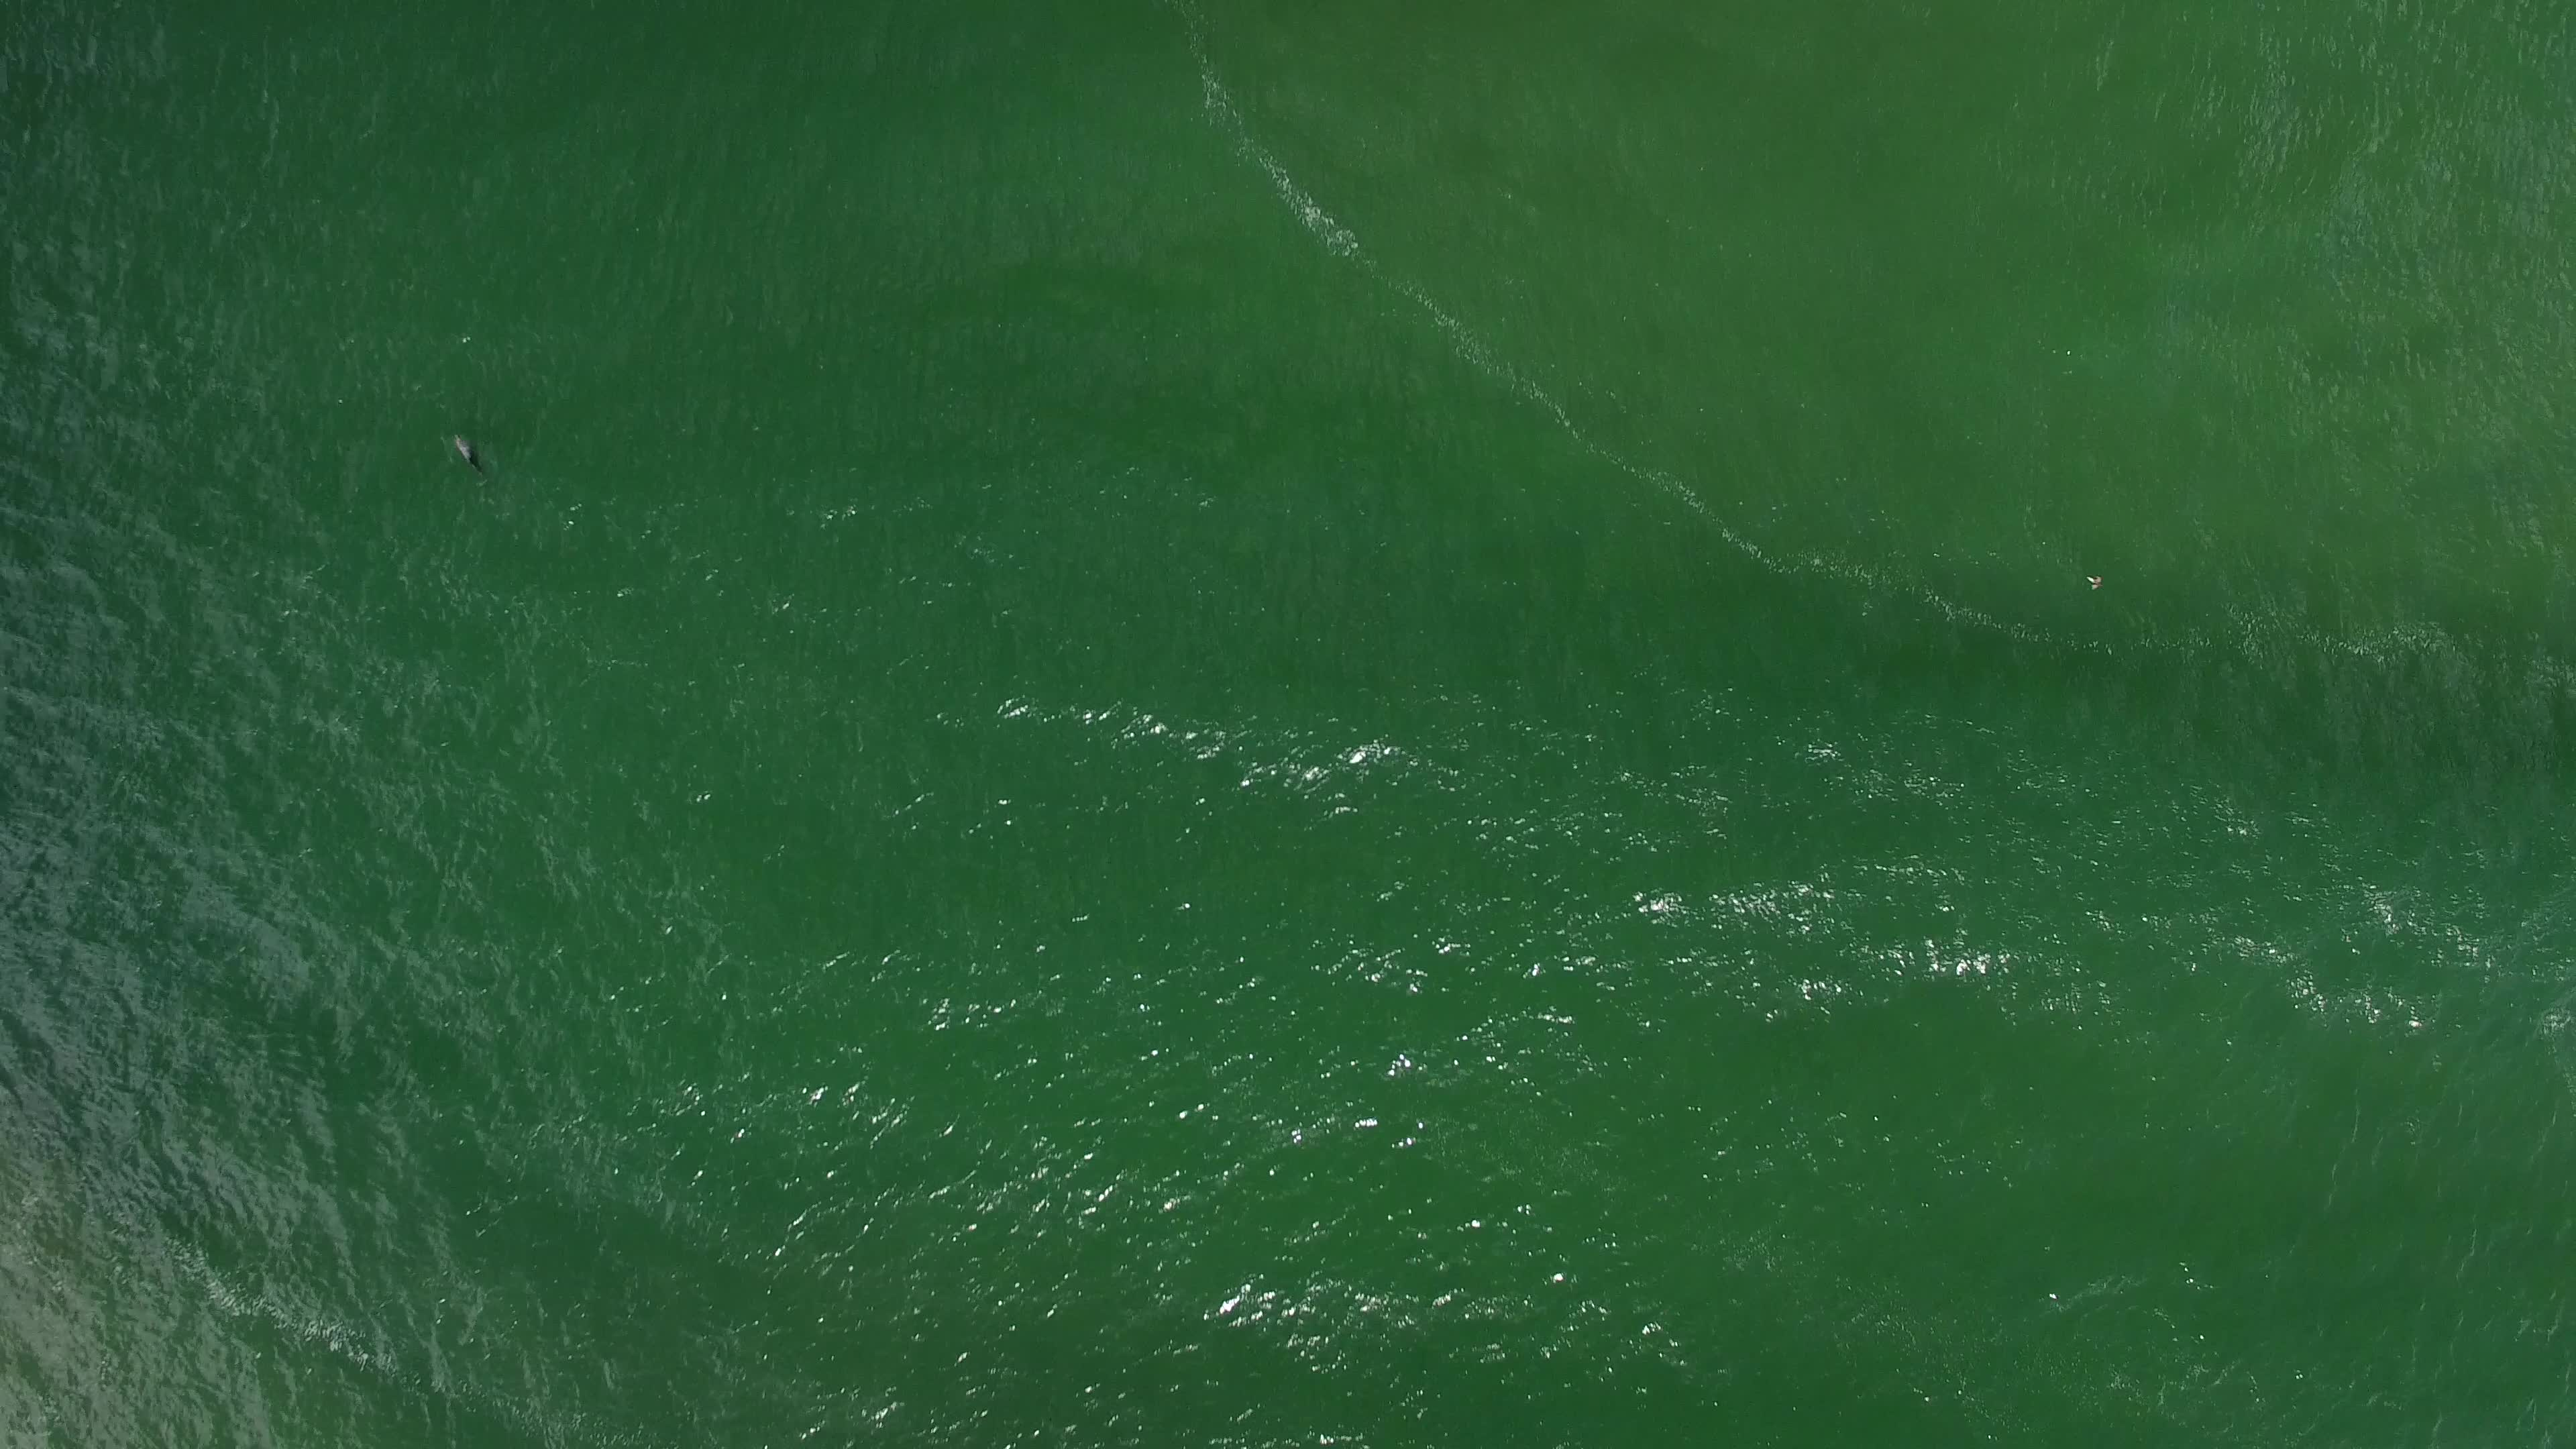dolphin: (437, 418, 508, 499)
